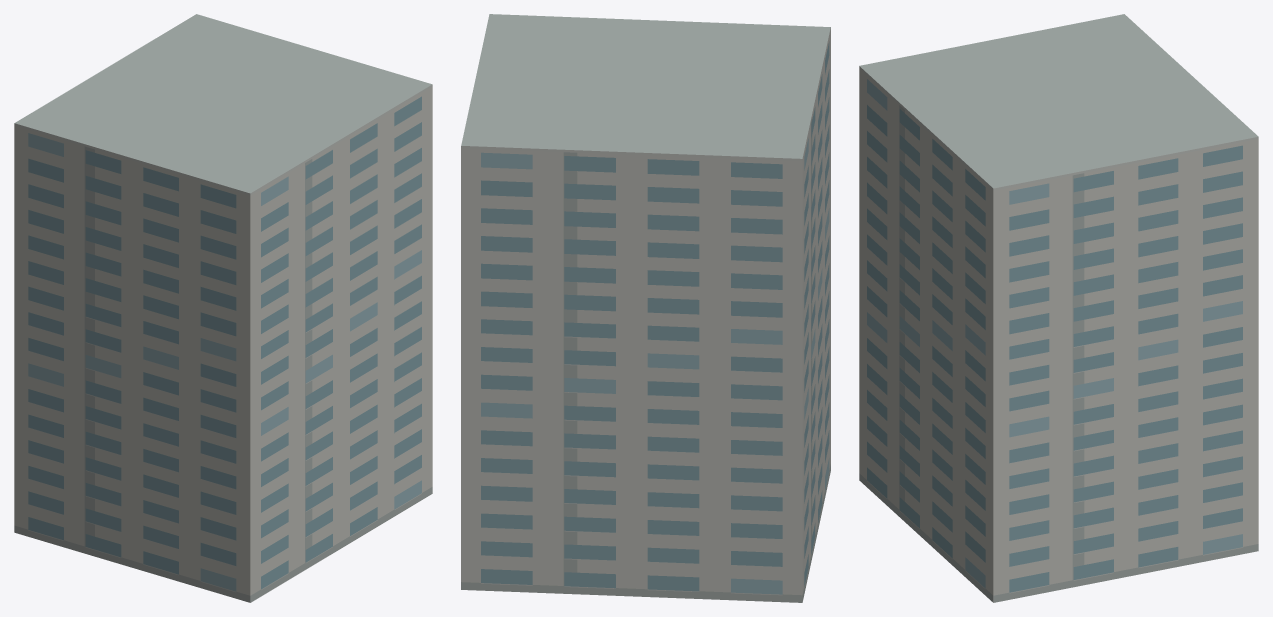
The model's file is residential-e83ed4da-6857-4842-9f58-25db136e1634.glb.
3 views of the same model, side by side, from view 1: azimuth 30°, elevation 25°; view 2: azimuth 150°, elevation 25°; view 3: azimuth 270°, elevation 25° (orthographic). The views are drawn at different scales.
Parts seen in each view (by area): view 1: residential-e83ed4da-6857-4842-9f58-25db136e1634.tmp; view 2: residential-e83ed4da-6857-4842-9f58-25db136e1634.tmp; view 3: residential-e83ed4da-6857-4842-9f58-25db136e1634.tmp.
Part boxes in pixels (x1=…): residential-e83ed4da-6857-4842-9f58-25db136e1634.tmp: x1=14, y1=14, x2=432, y2=602; residential-e83ed4da-6857-4842-9f58-25db136e1634.tmp: x1=461, y1=14, x2=830, y2=602; residential-e83ed4da-6857-4842-9f58-25db136e1634.tmp: x1=859, y1=14, x2=1258, y2=602.
Bounding box in the file's own units: 38.85 × 43 × 37.58.
